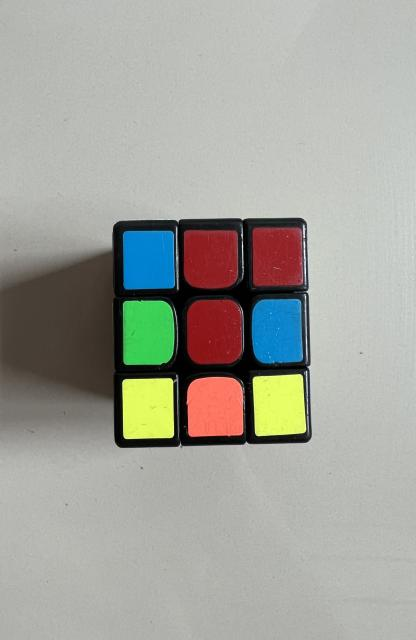Blue: (251, 299, 303, 364), (122, 230, 176, 290)
Green: (122, 300, 174, 365)
Orange: (186, 376, 244, 438)
Red: (186, 299, 243, 364), (183, 230, 238, 289), (252, 228, 303, 286)
Yellow: (252, 374, 307, 436), (122, 378, 174, 439)
